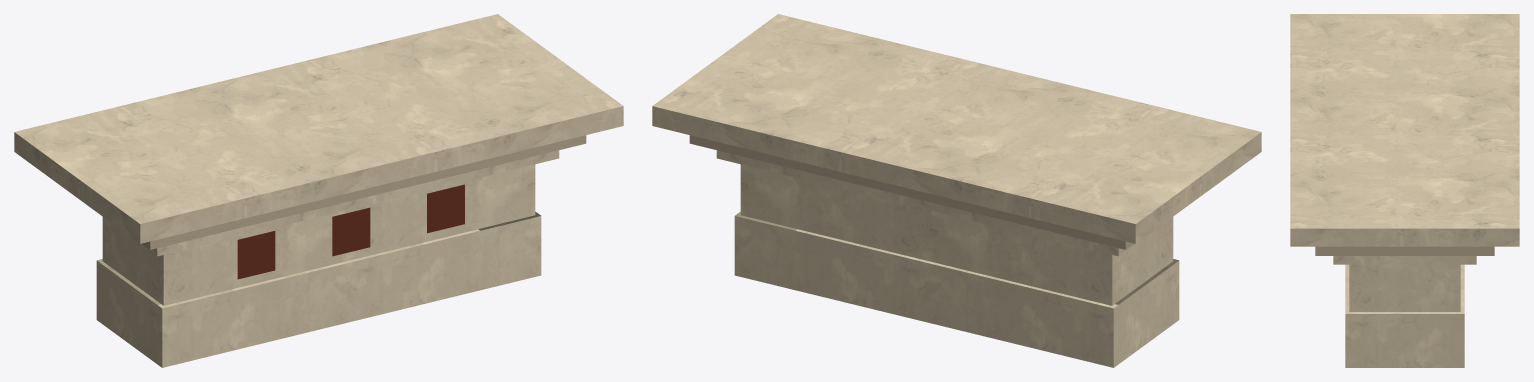
The model's file is entablature_bay.glb.
The picture shows the model from 3 angles, left to right: view 1: azimuth 30°, elevation 25°; view 2: azimuth 150°, elevation 25°; view 3: azimuth 270°, elevation 25°; orthographic projection. The views are drawn at different scales.
Parts seen in each view (by area): view 1: entablature_bay; view 2: entablature_bay; view 3: entablature_bay.
Boxes of the visible parts, <box> form: entablature_bay: <box>14,14,623,367</box>; entablature_bay: <box>652,14,1261,367</box>; entablature_bay: <box>1290,14,1519,367</box>.
Size of the model in its own units: 5.1 by 1.8 by 2.3.
3 materials, 1 textured.
